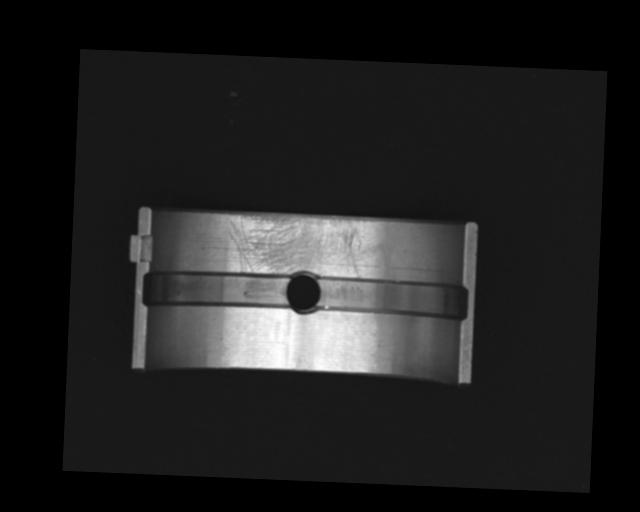gap: (315, 275, 468, 320), (140, 271, 290, 309)
hole: (286, 270, 320, 316)
scratch: (226, 212, 375, 279)
